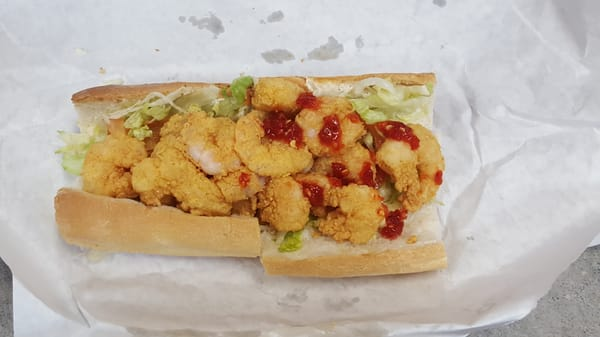soup: (51, 72, 455, 278)
